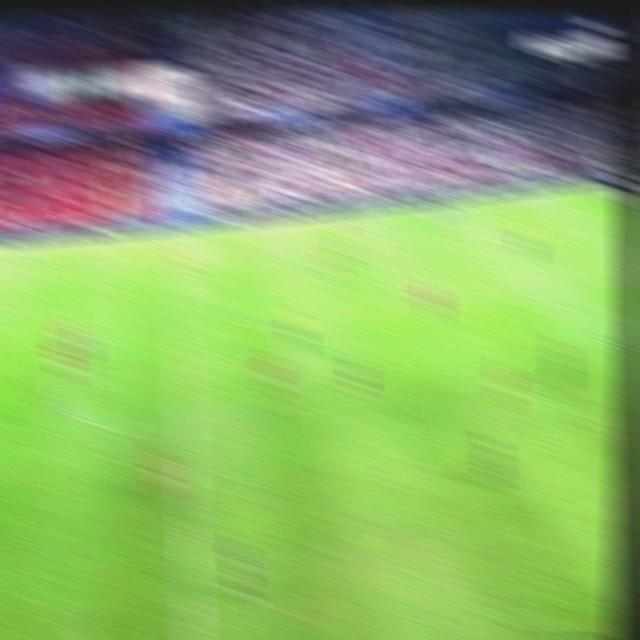bigarea_top_inner: (500, 229, 519, 244)
corner: (580, 181, 598, 192)
halfcircle_bottom: (169, 414, 199, 444)
halfcircle_top: (163, 307, 195, 333)
top_arc_area_intersection: (555, 271, 576, 285)
